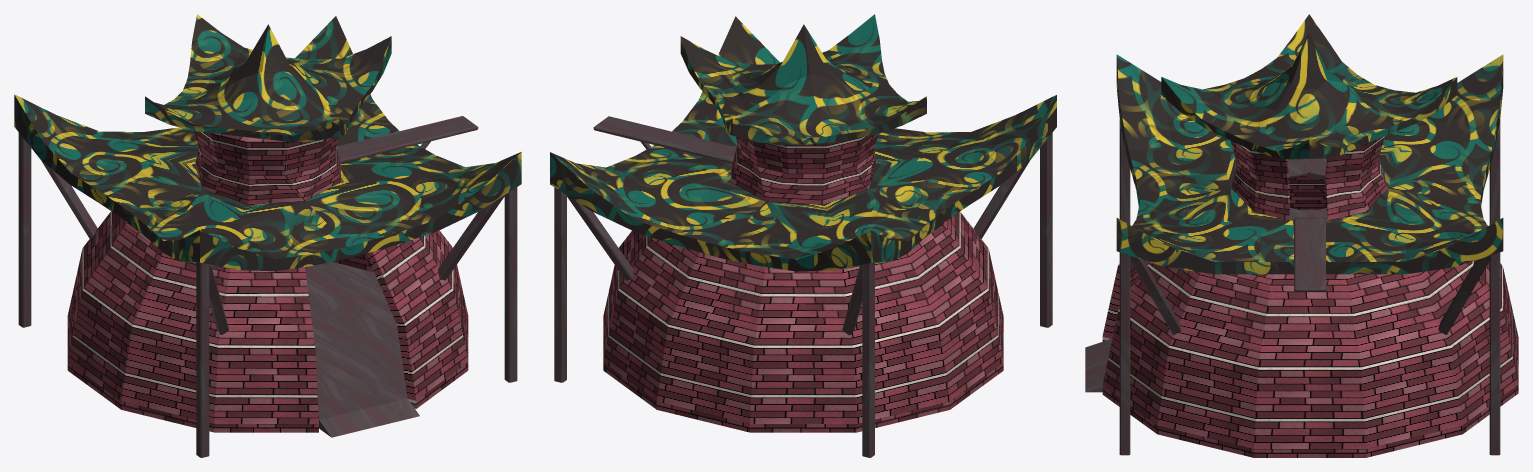
Rendered from House1.fbx.
3 views of the same model, side by side, from view 1: azimuth 30°, elevation 25°; view 2: azimuth 150°, elevation 25°; view 3: azimuth 270°, elevation 25° (orthographic). The views are drawn at different scales.
Parts seen in each view (by area): view 1: house; view 2: house; view 3: house.
Part boxes in pixels (x1,y1,x2,y2): house: (14,14,521,457); house: (550,14,1056,457); house: (1085,14,1518,457).
Bounding box in the file's own units: 1271 × 1059 × 1217.
